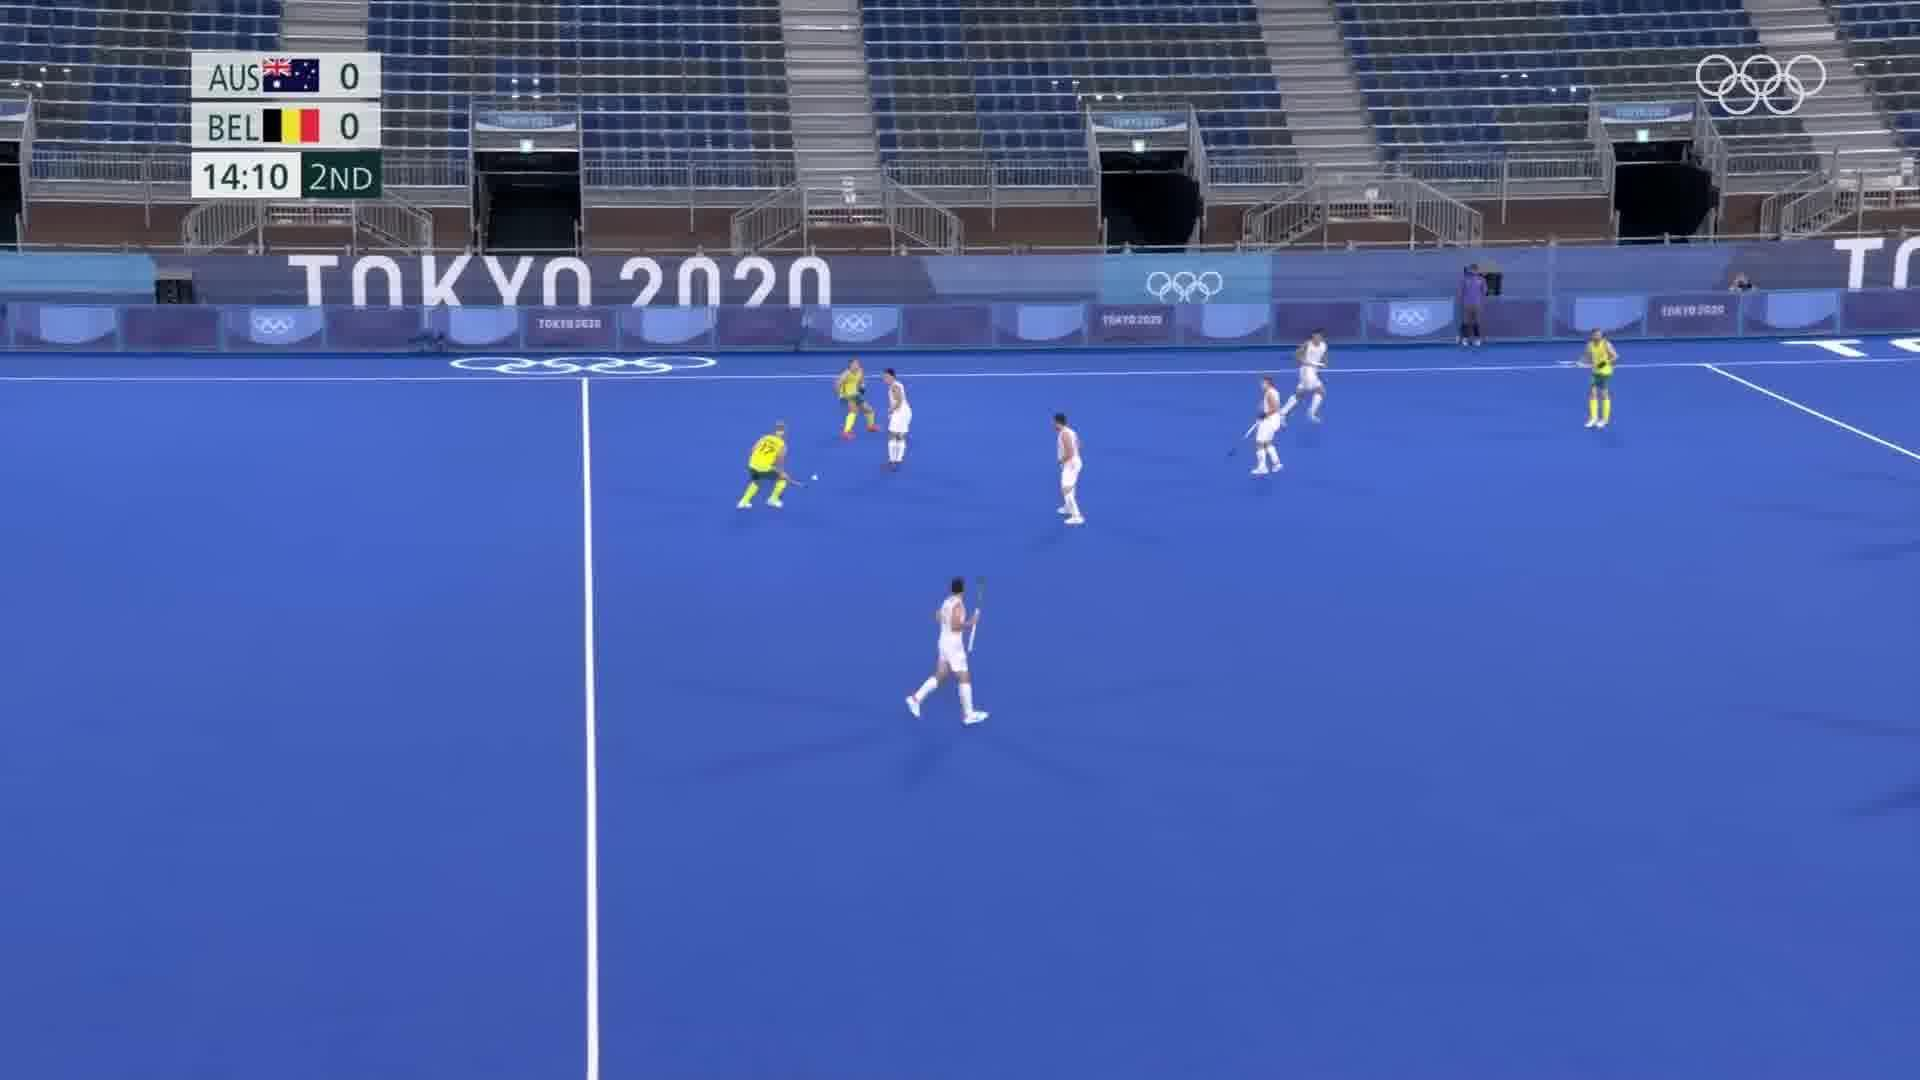ball: (808, 472, 822, 483)
